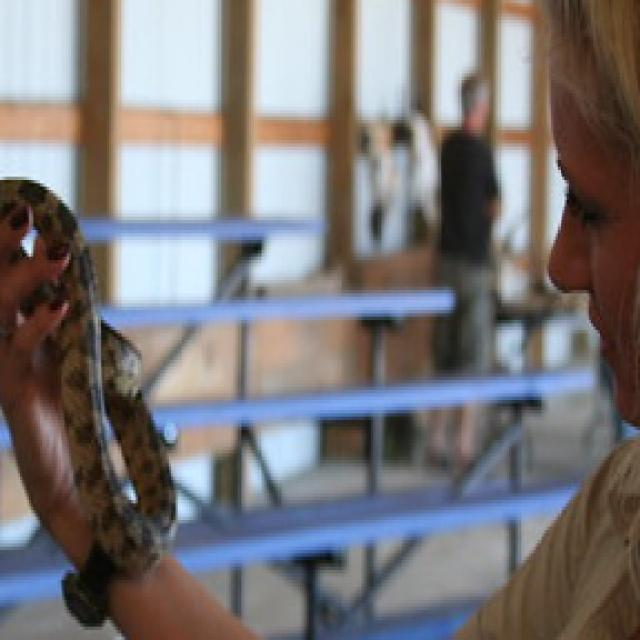Snake: (0, 170, 178, 626)
